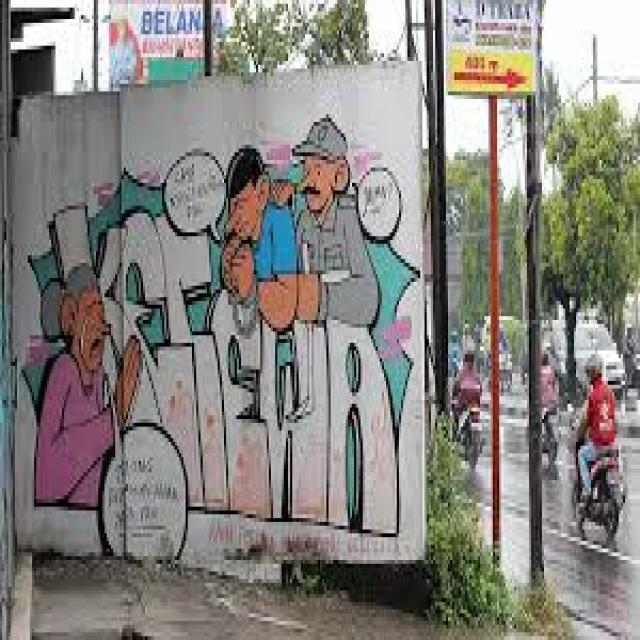-: (23, 112, 419, 566)
